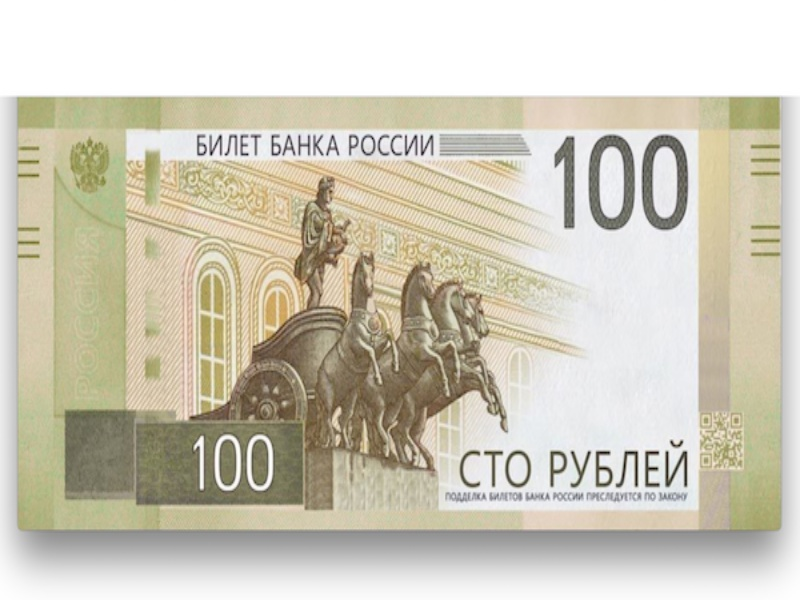cash: (17, 96, 781, 530)
